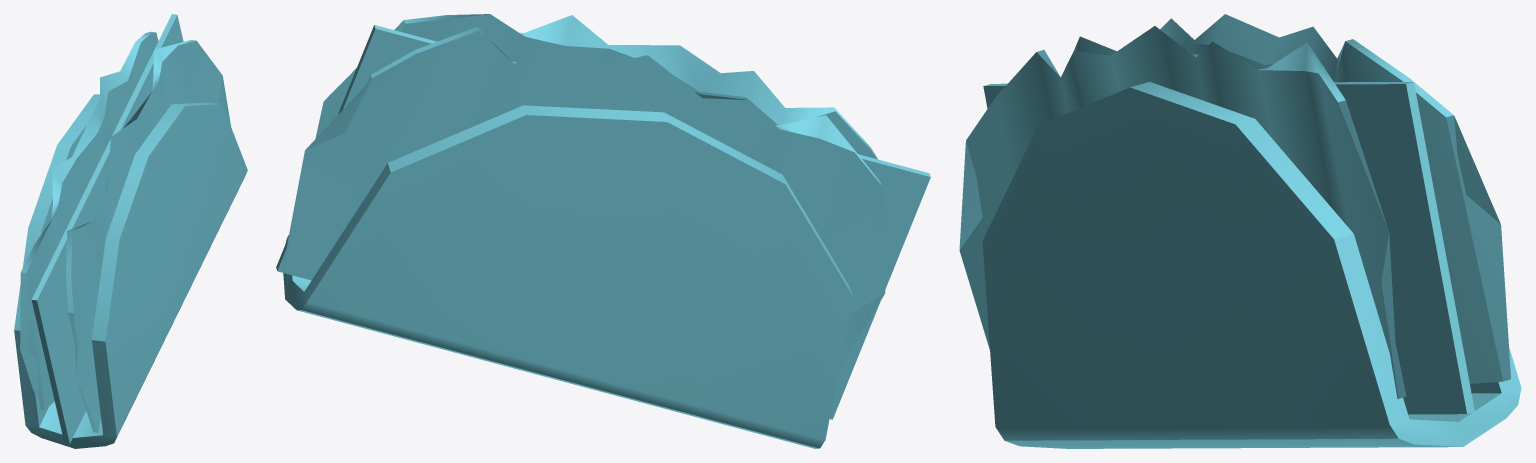
File: Taco_Hologram.fbx
The picture shows the model from 3 angles, left to right: view 1: azimuth 30°, elevation 25°; view 2: azimuth 150°, elevation 25°; view 3: azimuth 270°, elevation 25°; orthographic projection. The views are drawn at different scales.
Parts seen in each view (by area): view 1: Taco_Shell; view 2: Taco_Shell; view 3: Taco_Shell.
Part boxes in pixels (box(x1,y1,x2,y2)): Taco_Shell: box(14, 14, 247, 448); Taco_Shell: box(276, 14, 930, 448); Taco_Shell: box(959, 14, 1521, 448).
Bounding box in the file's own units: 88.79 × 79.54 × 76.15.
